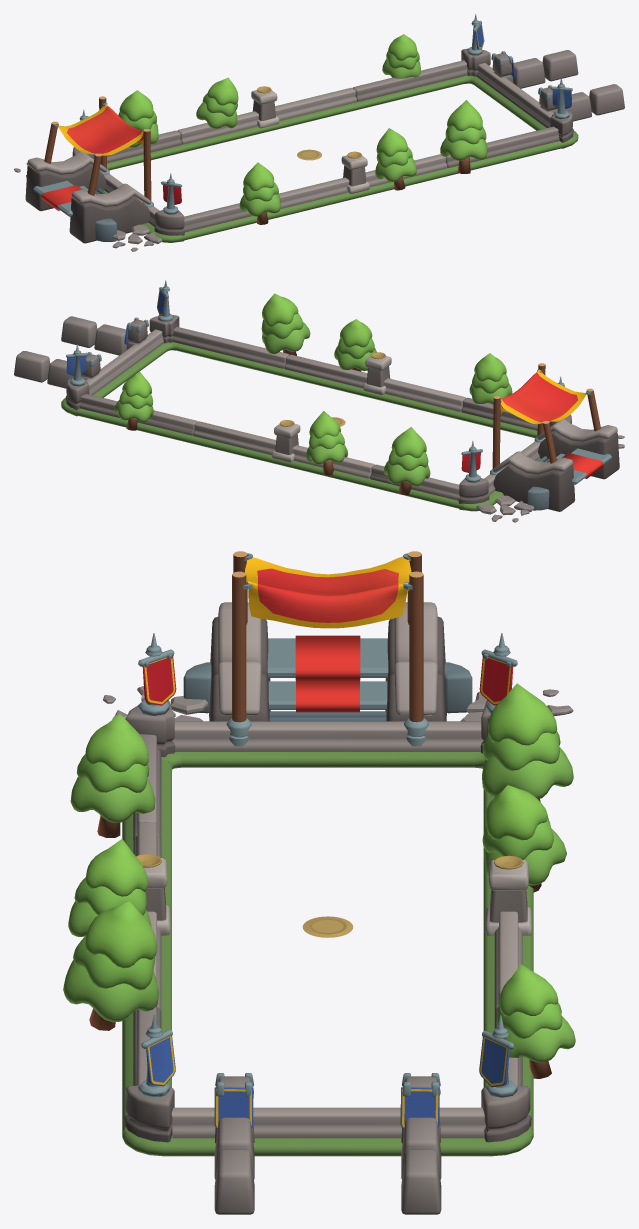
File: Arena1.fbx
The picture shows the model from 3 angles, top to bottom: view 1: azimuth 30°, elevation 25°; view 2: azimuth 150°, elevation 25°; view 3: azimuth 270°, elevation 25°; orthographic projection. The views are drawn at different scales.
Visible parts, largest first — view 1: Cube.025, Circle.037, Circle.036, Plane.001, Circle.046, Cube.047, palmtree.012, Circle.048, Circle.045, palmtree.002, palmtree, palmtree.005 (+22 smaller); view 2: Cube.047, Circle.036, Circle.037, Plane.001, Circle.048, Cube.025, Circle.046, palmtree.012, palmtree.004, Circle.047, palmtree.005, palmtree.002 (+22 smaller); view 3: Plane.001, Circle.031, palmtree.012, Circle.035, palmtree.004, palmtree, Circle.038, palmtree.003, palmtree.005, Circle.007, Cube.047, Cube.025 (+27 smaller).
Part boxes in pixels (x1,y1,x2,y2): Cube.025: [69, 183, 151, 243]; Circle.037: [179, 141, 568, 241]; Circle.036: [107, 76, 464, 170]; Plane.001: [58, 103, 143, 155]; Circle.046: [177, 88, 356, 144]; Cube.047: [25, 151, 107, 211]; palmtree.012: [440, 100, 487, 173]; Circle.048: [279, 154, 447, 208]; Circle.045: [353, 60, 467, 101]; palmtree.002: [375, 128, 416, 190]; palmtree: [239, 162, 280, 224]; palmtree.005: [196, 77, 238, 128]; Cube.047: [492, 451, 575, 511]; Circle.036: [71, 408, 464, 509]; Circle.037: [176, 342, 537, 437]; Plane.001: [500, 369, 586, 424]; Circle.048: [284, 354, 465, 411]; Cube.025: [537, 419, 619, 479]; Circle.046: [193, 421, 374, 478]; palmtree.012: [261, 293, 310, 355]; palmtree.004: [383, 427, 430, 495]; Circle.047: [173, 326, 288, 368]; palmtree.005: [306, 411, 347, 475]; palmtree.002: [334, 319, 376, 371]; Plane.001: [244, 555, 411, 628]; Circle.031: [172, 721, 483, 751]; palmtree.012: [63, 901, 158, 1030]; Circle.035: [171, 1107, 485, 1138]; palmtree.004: [482, 683, 573, 801]; palmtree: [70, 714, 155, 837]; Circle.038: [122, 1127, 533, 1156]; palmtree.003: [496, 964, 575, 1078]; palmtree.005: [482, 785, 566, 892]; Circle.007: [161, 752, 485, 769]; Cube.047: [385, 602, 446, 721]; Cube.025: [209, 602, 270, 721].
Bounding box in the file's own units: 48.47 × 7.81 × 19.65.
